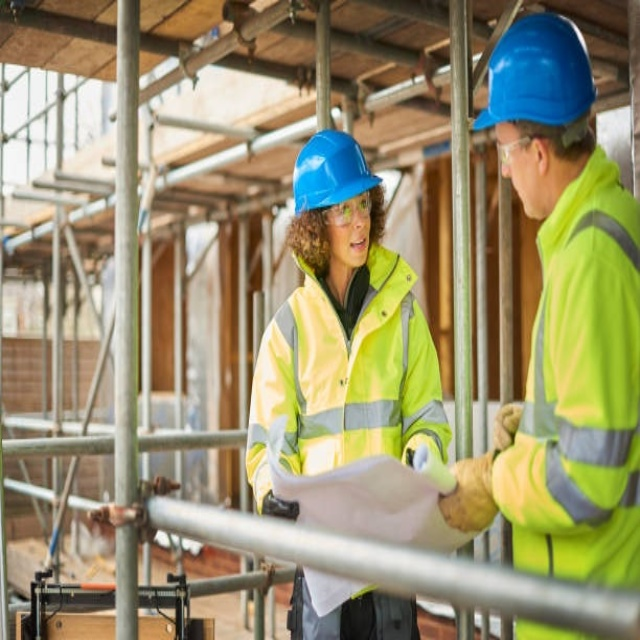Gafas: (323, 194, 374, 228), (497, 135, 536, 165)
Guantes: (438, 449, 501, 534), (492, 402, 524, 454)
Sin_mascara: (501, 169, 535, 215), (341, 232, 369, 264)
